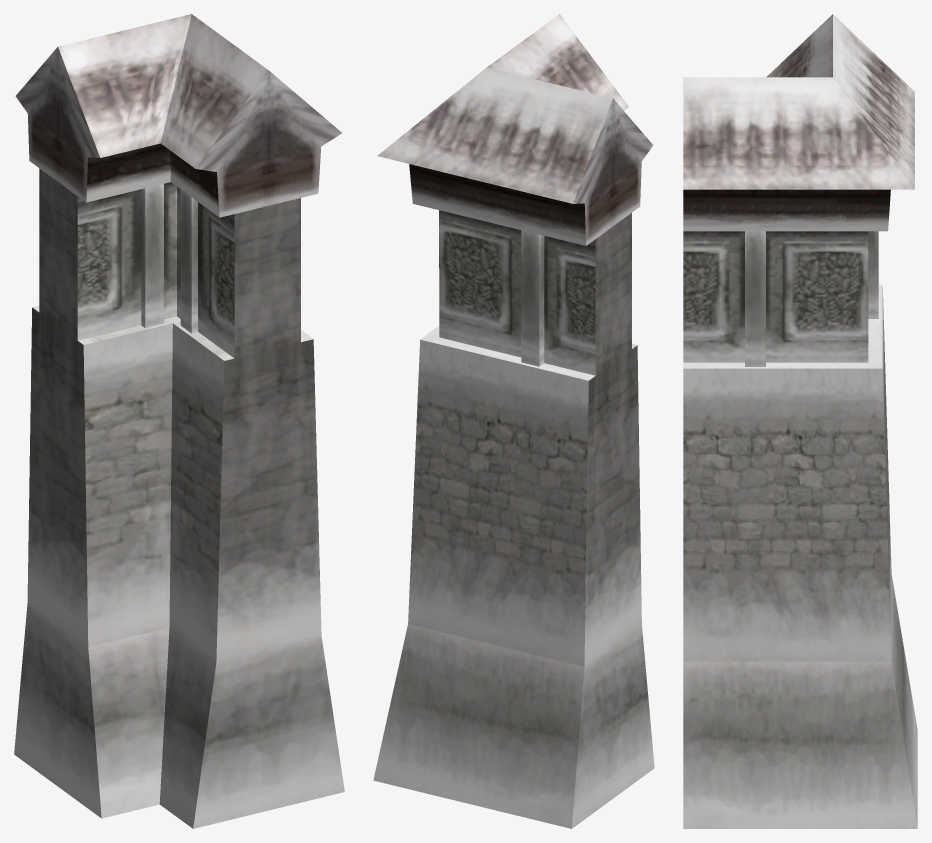
File: snow-middledam-05_lod_01.glb
3 views of the same model, side by side, from view 1: azimuth 30°, elevation 25°; view 2: azimuth 150°, elevation 25°; view 3: azimuth 270°, elevation 25° (orthographic). The views are drawn at different scales.
Visible parts, largest first — view 1: snow-middledam-02; view 2: snow-middledam-02; view 3: snow-middledam-02.
Part boxes in pixels (x1,y1,x2,y2): snow-middledam-02: (14, 14, 344, 828); snow-middledam-02: (373, 14, 654, 828); snow-middledam-02: (683, 14, 917, 828).
Size of the model in its own units: 2.35 by 7.92 by 2.35.
1 material, 1 textured.
